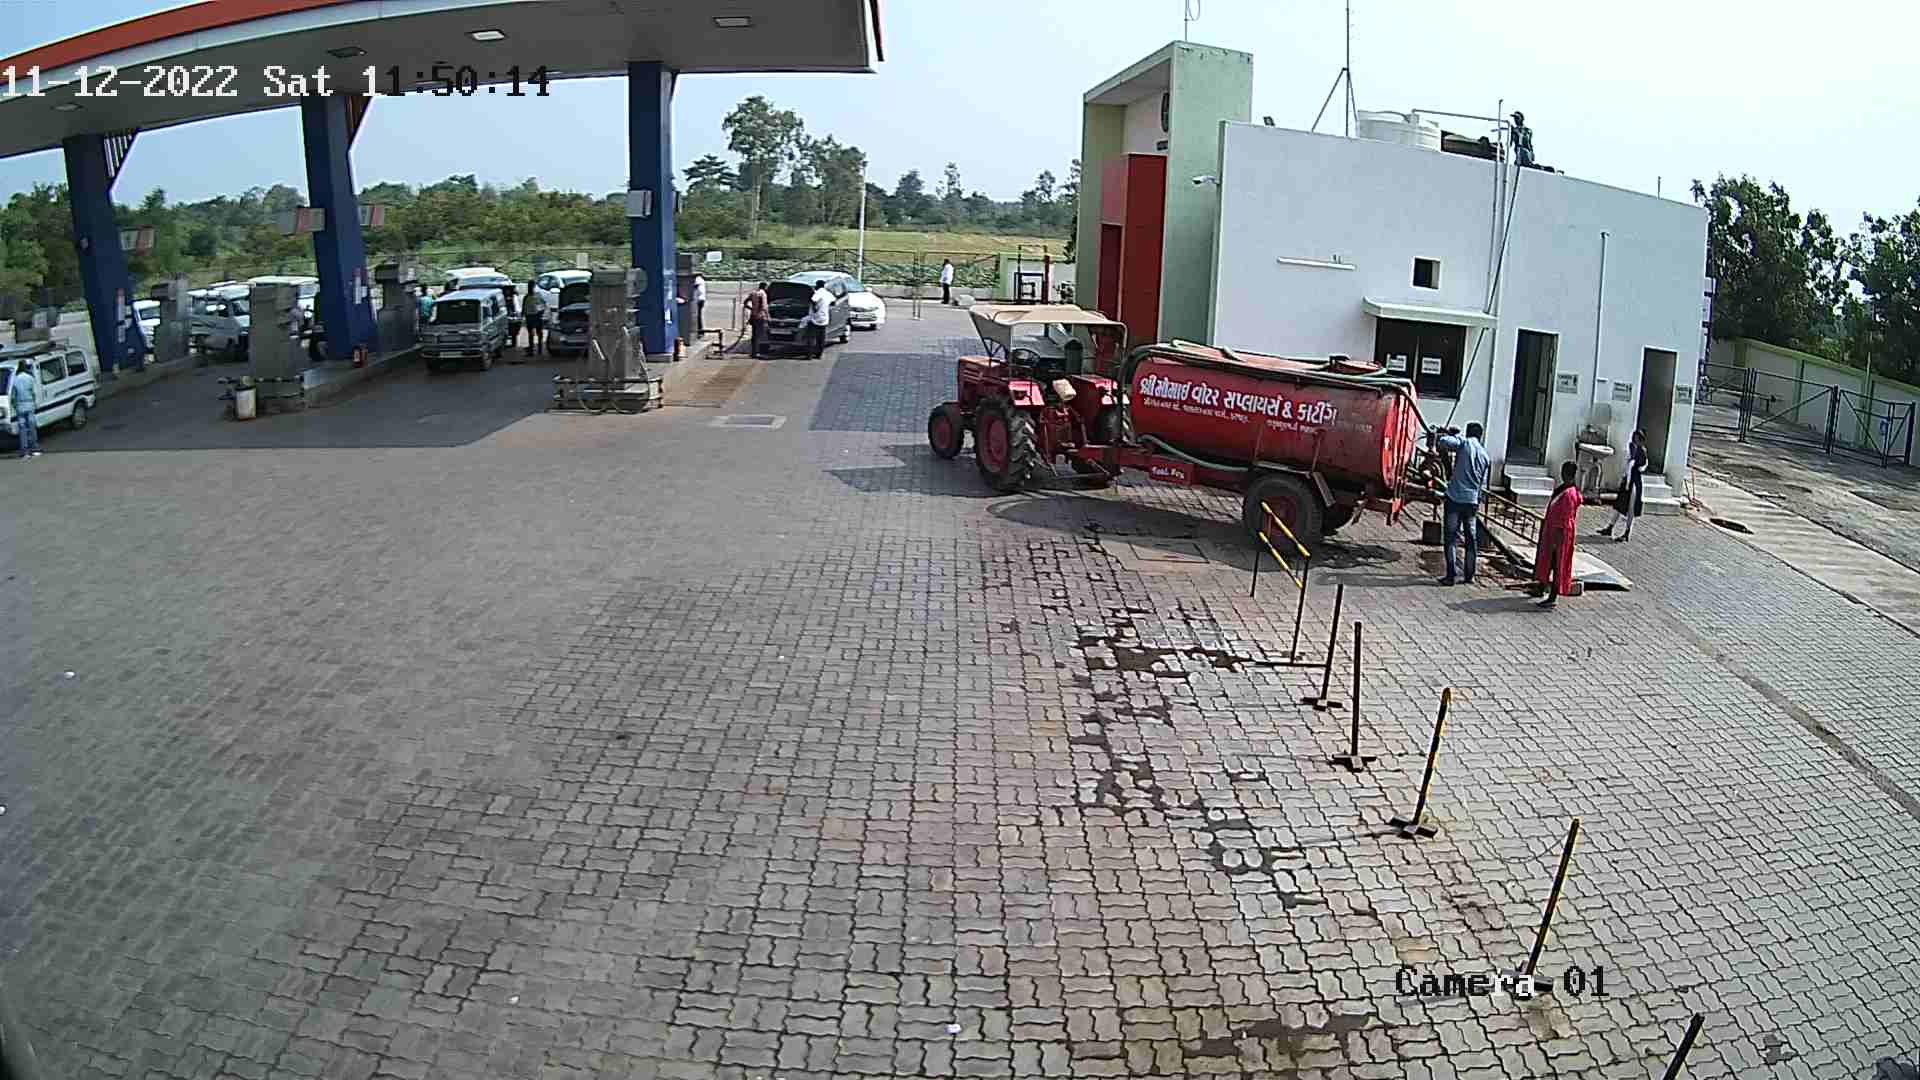Car: (1, 324, 108, 455), (737, 269, 855, 368), (415, 281, 524, 375), (434, 257, 531, 340), (785, 266, 887, 339), (185, 272, 253, 365), (541, 273, 599, 371), (529, 258, 596, 332), (280, 266, 336, 353), (131, 284, 173, 353)
HMV: (913, 287, 1539, 589)
